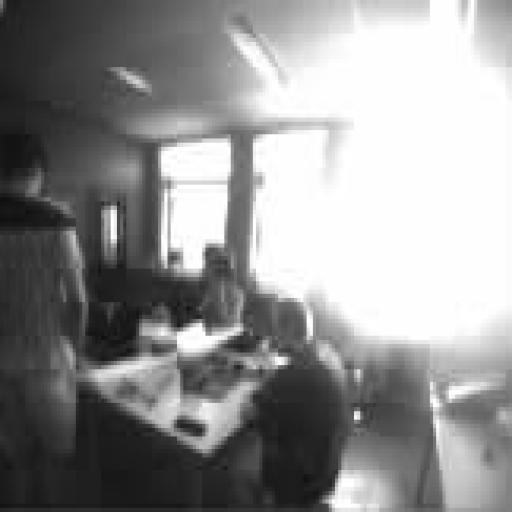human: (0, 131, 88, 507), (238, 294, 348, 512), (200, 252, 243, 331)
